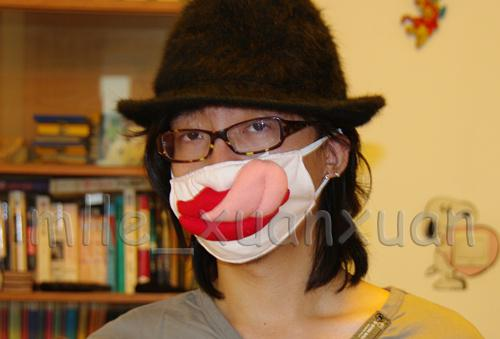OK: (170, 108, 313, 251)
